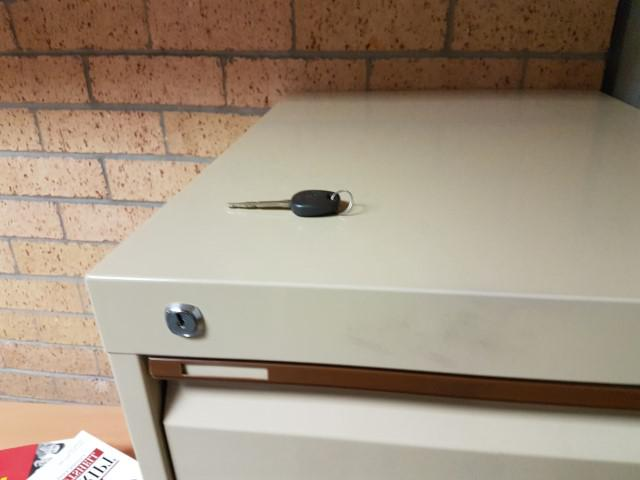key: (228, 189, 340, 216)
